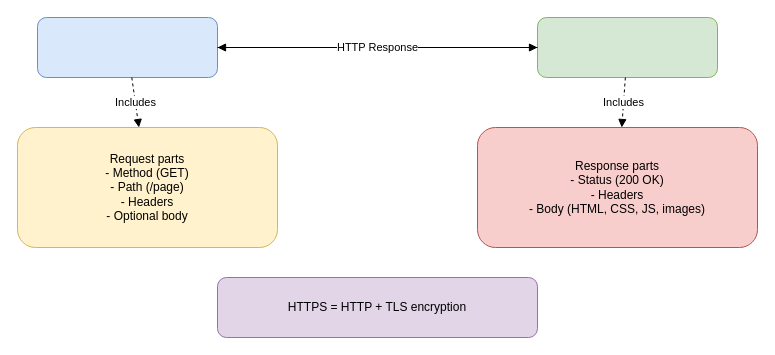
The diagram is 775 pixels wide and 355 high, and some of its shapes have lost their labels. Each missing label, with the centre of its shape:
"Browser" belongs at [127,47].
"Web server" belongs at [627,47].
